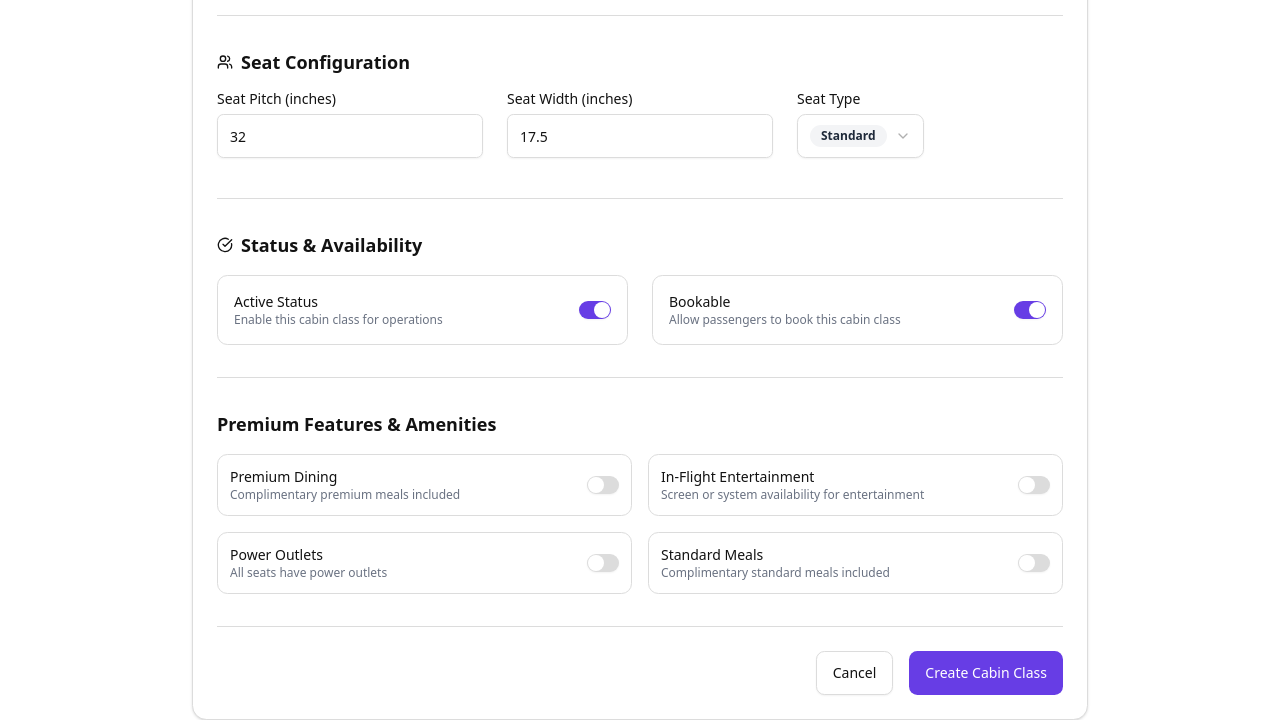
Test: CabinClassForm › Create Mode › validates required fields
The image size is (1280, 720).
(page scrolled)
Try to submit empty form
Click the button "Create Cabin Class" at x=986, y=673, box [909, 651, 1063, 695]
(page scrolled)
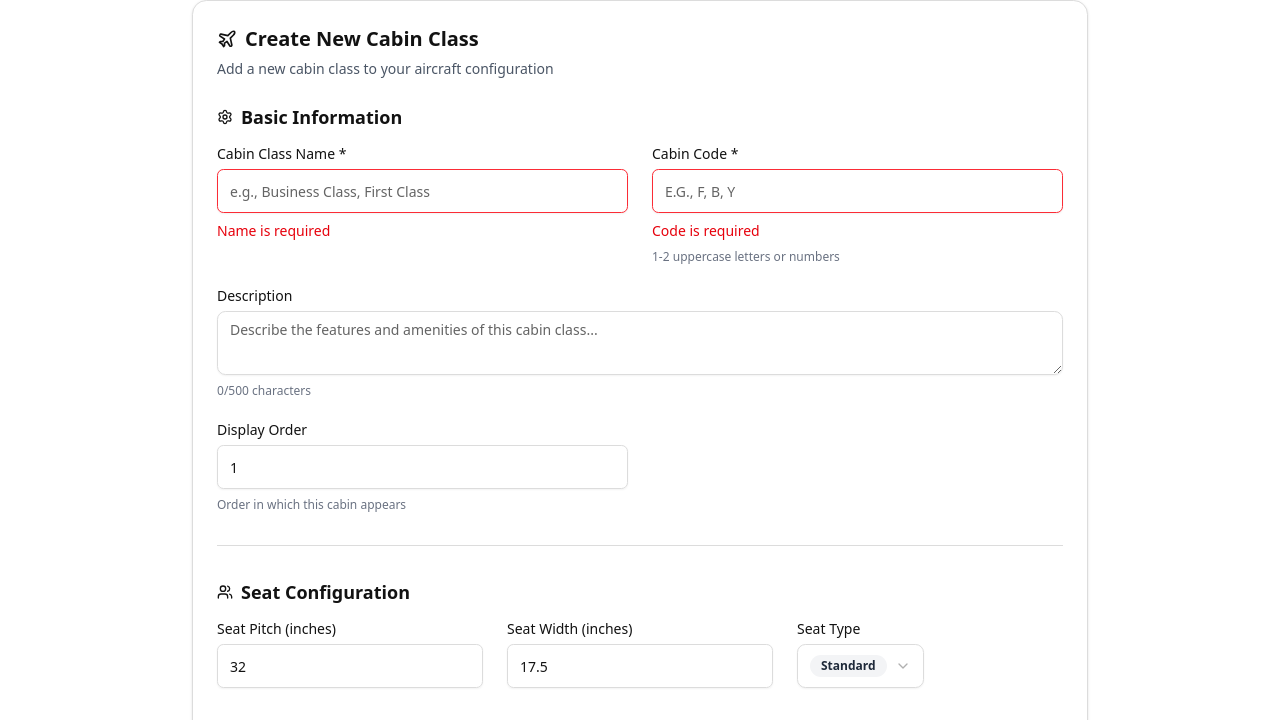
Now the text "Name is required" is shown, box [217, 221, 330, 240]
Now the text "Code is required" is shown, box [652, 221, 760, 240]
